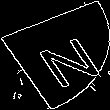N_NW: (16, 23, 94, 87)
